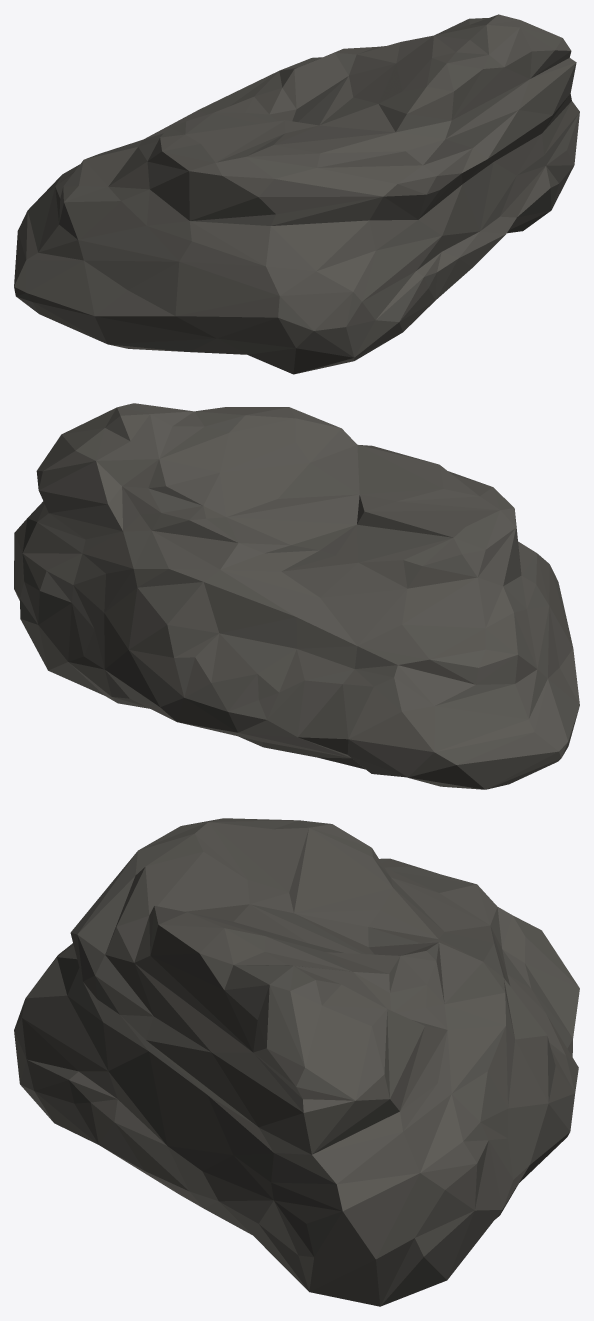
File: alp_Env_Rock_05.glb
The picture shows the model from 3 angles, top to bottom: view 1: azimuth 30°, elevation 25°; view 2: azimuth 150°, elevation 25°; view 3: azimuth 270°, elevation 25°; orthographic projection. The views are drawn at different scales.
Parts seen in each view (by area): view 1: SM_Env_Rock_05; view 2: SM_Env_Rock_05; view 3: SM_Env_Rock_05.
Part boxes in pixels (box(x1,y1,x2,y2)): SM_Env_Rock_05: box(14, 14, 579, 374); SM_Env_Rock_05: box(14, 403, 579, 789); SM_Env_Rock_05: box(14, 818, 579, 1306).
Bounding box in the file's own units: 3.58 × 1.47 × 2.39.
1 material, 1 textured.
